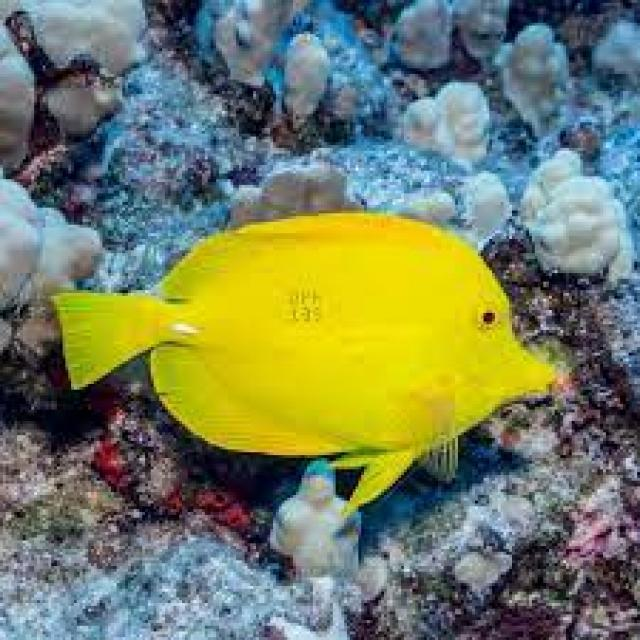TangFish: (53, 214, 562, 506)
